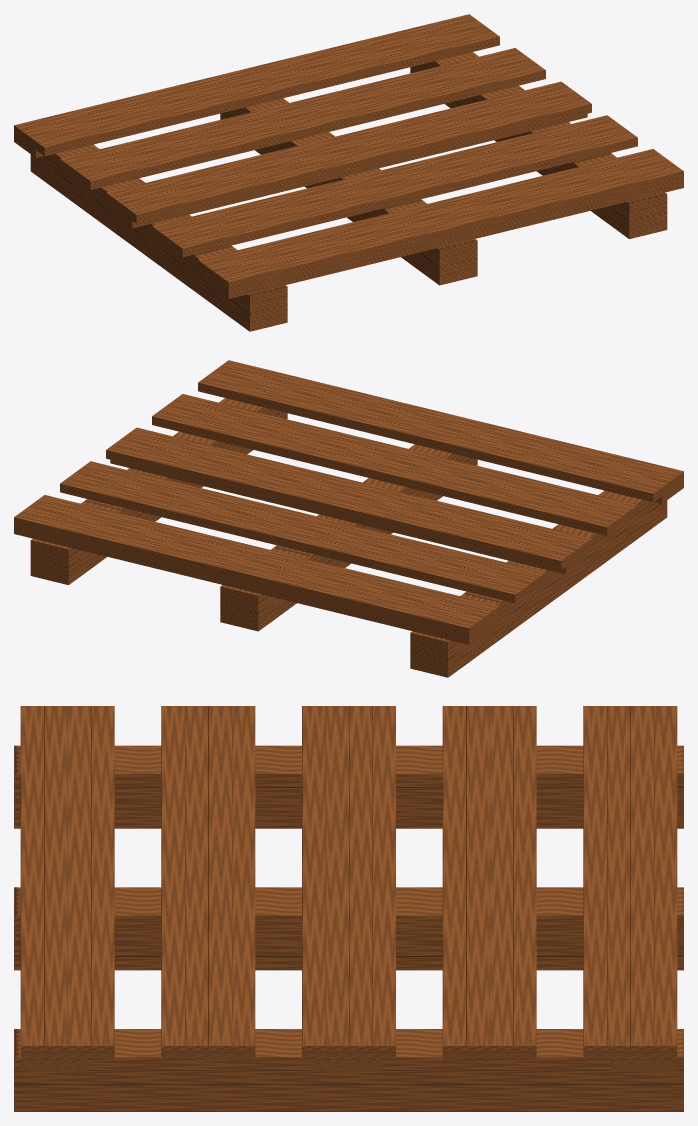
The model's file is empty-timber-pallet.glb.
3 views of the same model, one above another, from view 1: azimuth 30°, elevation 25°; view 2: azimuth 150°, elevation 25°; view 3: azimuth 270°, elevation 25° (orthographic). The views are drawn at different scales.
Visible parts, largest first — view 1: machine-shop-and-factory-hall-empty-pallet; view 2: machine-shop-and-factory-hall-empty-pallet; view 3: machine-shop-and-factory-hall-empty-pallet.
Part boxes in pixels (<box>): machine-shop-and-factory-hall-empty-pallet: <box>14,14,683,331</box>; machine-shop-and-factory-hall-empty-pallet: <box>14,360,683,677</box>; machine-shop-and-factory-hall-empty-pallet: <box>14,706,683,1111</box>.
Size of the model in its own units: 1.2 by 0.132 by 1.
1 material, 1 textured.
